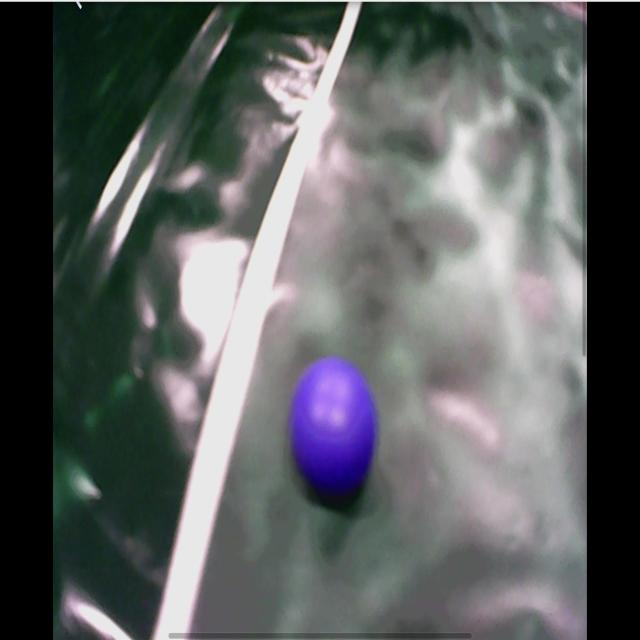ball: (292, 360, 376, 495)
